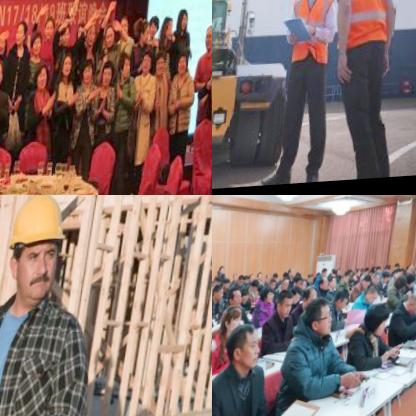head: (231, 322, 271, 375), (308, 298, 339, 336), (367, 306, 394, 342), (222, 307, 246, 336), (279, 290, 299, 319), (61, 55, 77, 86), (178, 50, 193, 79), (104, 62, 120, 88), (177, 12, 193, 38), (306, 287, 324, 310), (39, 68, 54, 95), (122, 55, 137, 82), (142, 49, 157, 76), (106, 24, 120, 52), (156, 55, 171, 81), (229, 287, 247, 308), (338, 289, 354, 312), (16, 22, 30, 48), (61, 24, 75, 50), (33, 31, 47, 56), (368, 286, 383, 308), (45, 20, 57, 47), (140, 22, 152, 49), (164, 18, 176, 45), (84, 65, 98, 88), (261, 288, 279, 305), (151, 19, 163, 43), (214, 283, 228, 302), (78, 23, 89, 47), (121, 17, 132, 40), (292, 287, 306, 305), (0, 34, 10, 59), (397, 276, 410, 295), (0, 62, 8, 92), (362, 278, 375, 296), (89, 24, 99, 47), (408, 295, 416, 321), (206, 24, 212, 55), (322, 276, 333, 292), (344, 272, 355, 288), (242, 291, 252, 306), (283, 277, 293, 292), (297, 275, 306, 289), (385, 273, 394, 287), (409, 273, 416, 290), (239, 275, 248, 288), (252, 280, 261, 293), (331, 278, 340, 291), (309, 272, 318, 285), (272, 276, 280, 290), (220, 265, 229, 277), (375, 274, 384, 286), (291, 269, 300, 280), (226, 278, 234, 290), (397, 270, 405, 282), (267, 272, 274, 285), (378, 268, 386, 279), (322, 269, 331, 278), (303, 280, 311, 290), (259, 269, 266, 280), (409, 264, 416, 275), (212, 279, 217, 294), (235, 273, 242, 283), (246, 274, 253, 284), (359, 270, 366, 279), (367, 268, 374, 277), (371, 270, 378, 279), (219, 276, 225, 286), (333, 269, 339, 279), (338, 268, 344, 278), (387, 267, 393, 277), (251, 273, 258, 281), (397, 264, 403, 273), (275, 273, 281, 281)
helmet: (0, 195, 75, 312)
